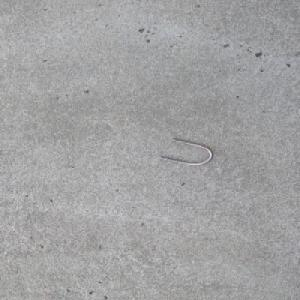ClampPart: (158, 138, 215, 166)
